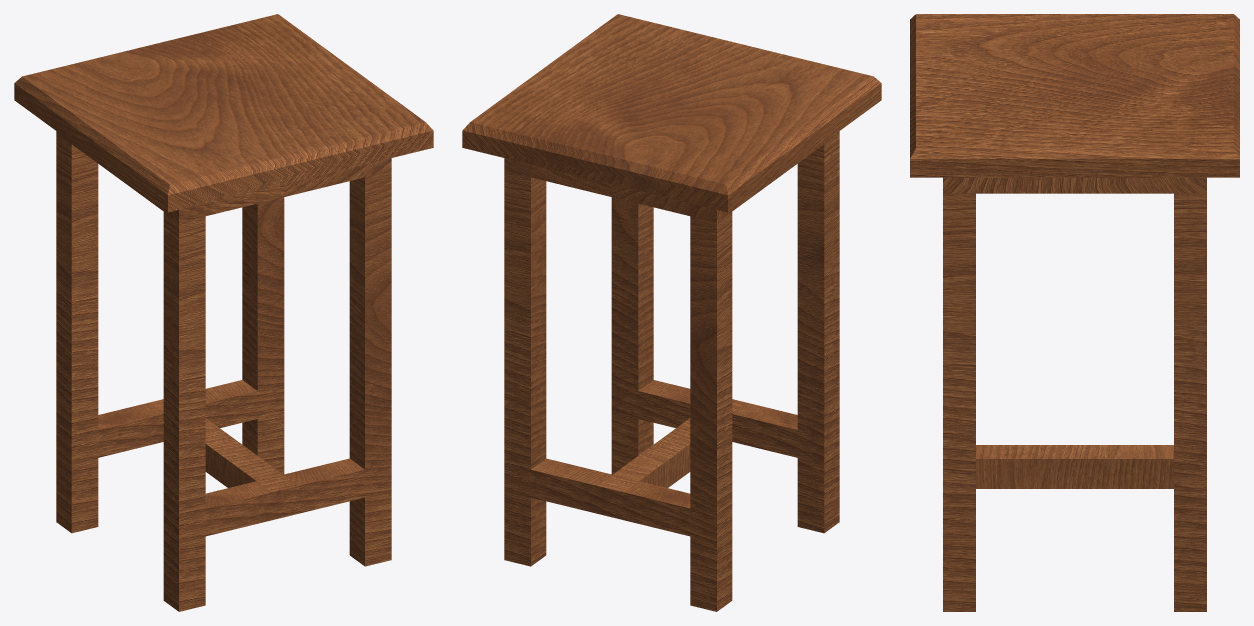
The model's file is SmallTable.fbx.
The picture shows the model from 3 angles, left to right: view 1: azimuth 30°, elevation 25°; view 2: azimuth 150°, elevation 25°; view 3: azimuth 270°, elevation 25°; orthographic projection. The views are drawn at different scales.
Visible parts, largest first — view 1: SmallTable; view 2: SmallTable; view 3: SmallTable.
Part boxes in pixels (x1,y1,x2,y2): SmallTable: (14,14,433,611); SmallTable: (462,14,881,611); SmallTable: (910,14,1239,611).
Bounding box in the file's own units: 200 × 318 × 200.
Materials: 1 (1 with a texture image).
